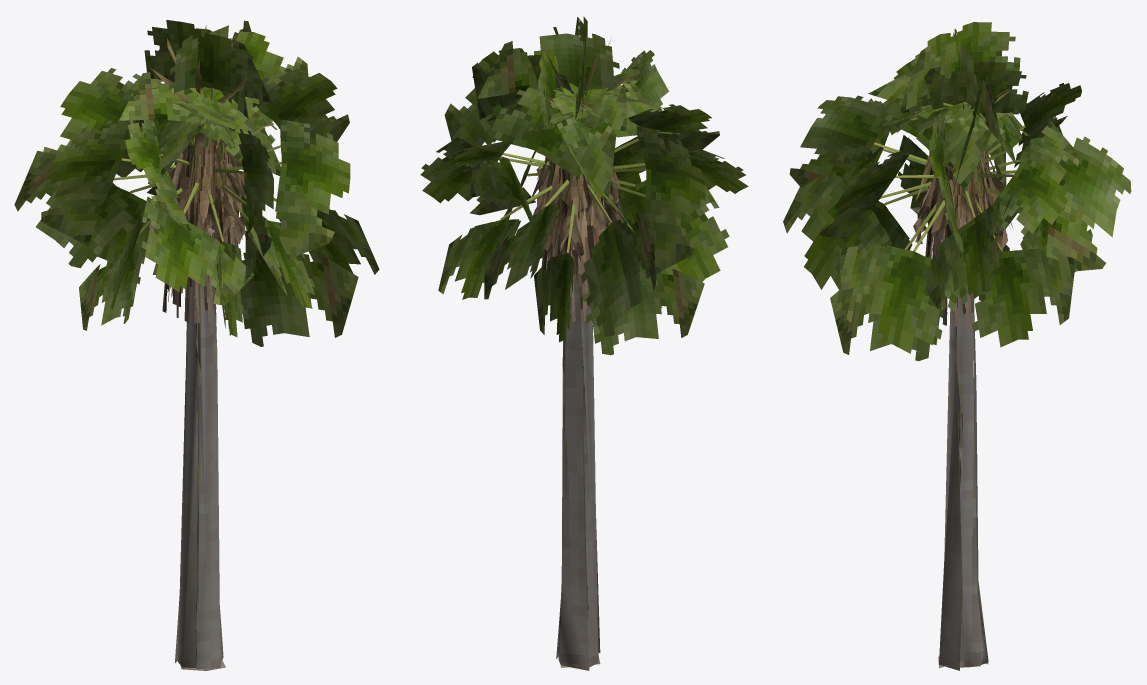
File: fanpalm2.glb
The picture shows the model from 3 angles, left to right: view 1: azimuth 30°, elevation 25°; view 2: azimuth 150°, elevation 25°; view 3: azimuth 270°, elevation 25°; orthographic projection.
Visible parts, largest first — view 1: b_fronds, a_trunk.001; view 2: b_fronds, a_trunk.001; view 3: b_fronds, a_trunk.001.
Part boxes in pixels (x1=…): b_fronds: x1=14, y1=20, x2=379, y2=346; a_trunk.001: x1=149, y1=25, x2=247, y2=670; b_fronds: x1=420, y1=16, x2=748, y2=355; a_trunk.001: x1=531, y1=27, x2=632, y2=670; b_fronds: x1=783, y1=22, x2=1131, y2=361; a_trunk.001: x1=911, y1=38, x2=1013, y2=670.
Size of the model in its own units: 5.71 by 12 by 5.92.
Materials: 2 (2 with a texture image).
